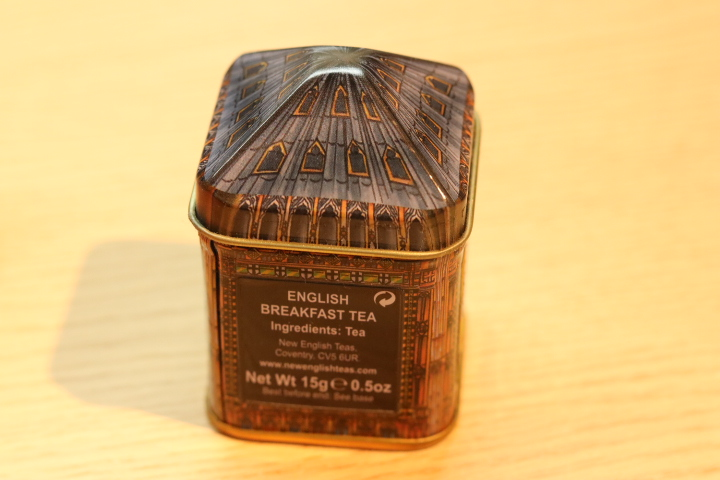Big Ben: (183, 34, 493, 458)
